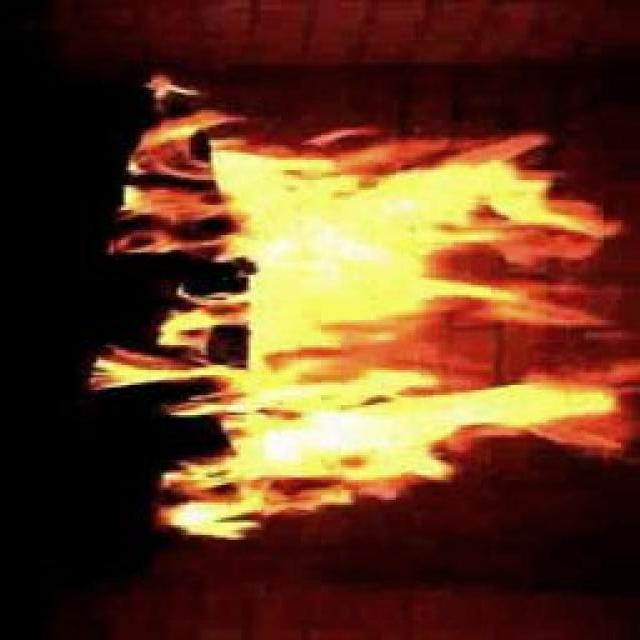Fire: (178, 124, 580, 522)
